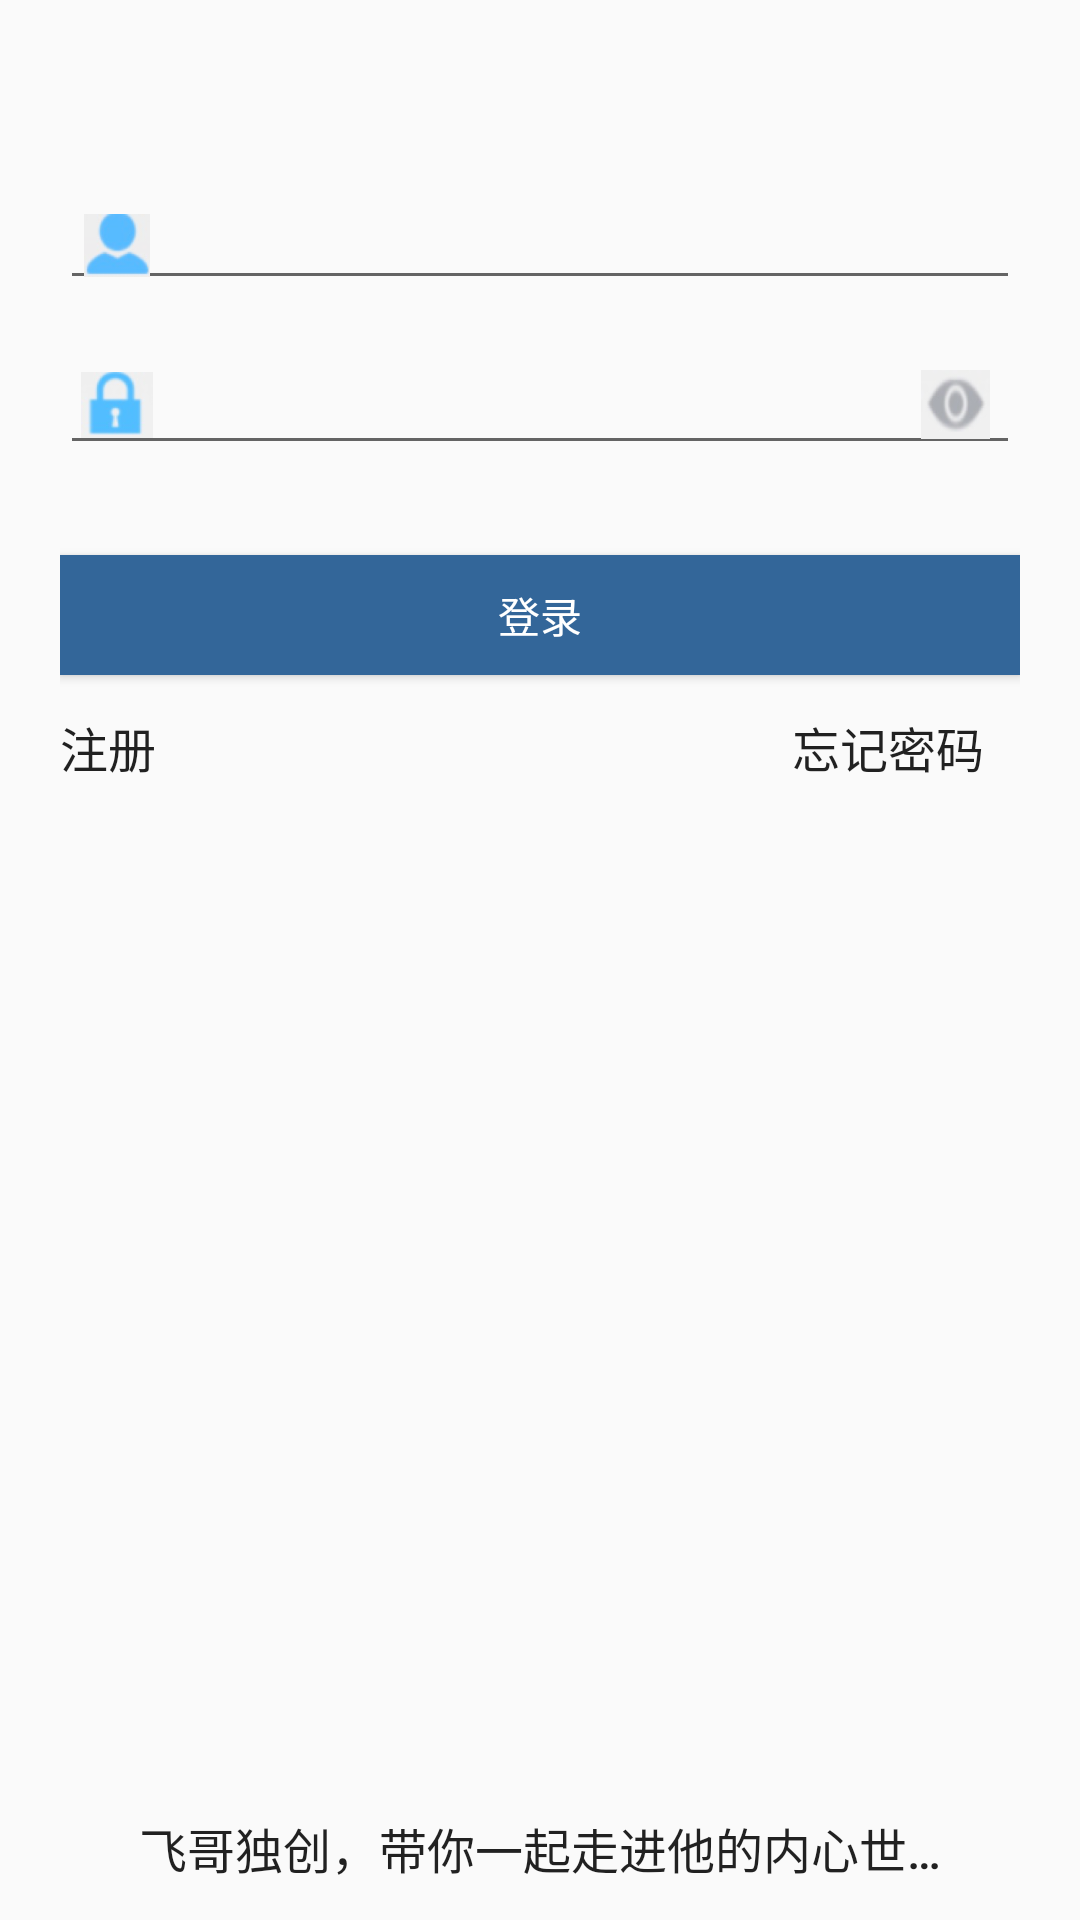

Named icons in this screenshot (1080 × 1920) and their centers, (x,y):
login code in: (115,403)
login usr in: (117,244)
